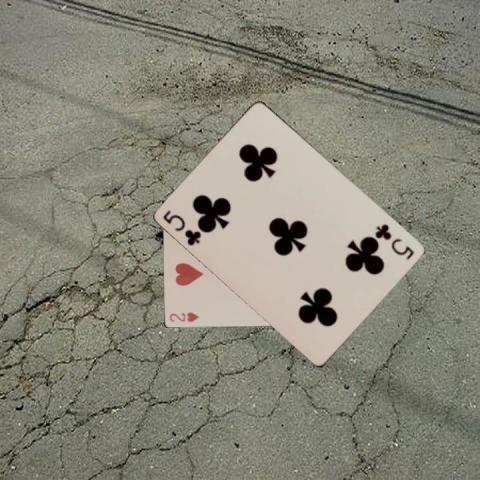2h: (167, 310, 200, 324)
5c: (373, 221, 416, 261), (160, 207, 203, 247)
